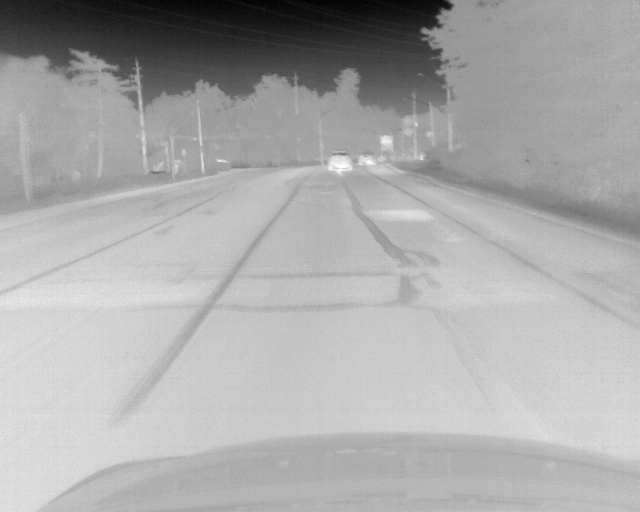car: (328, 152, 353, 174), (358, 153, 375, 165)
